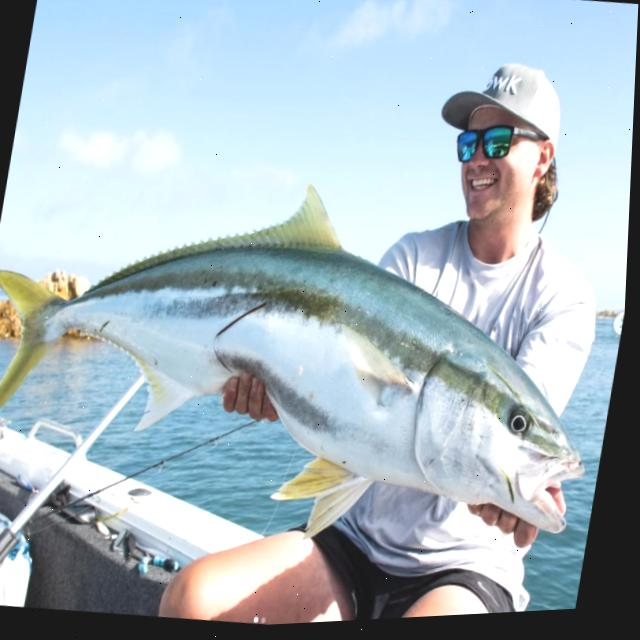Kingfish: (0, 132, 634, 574)
